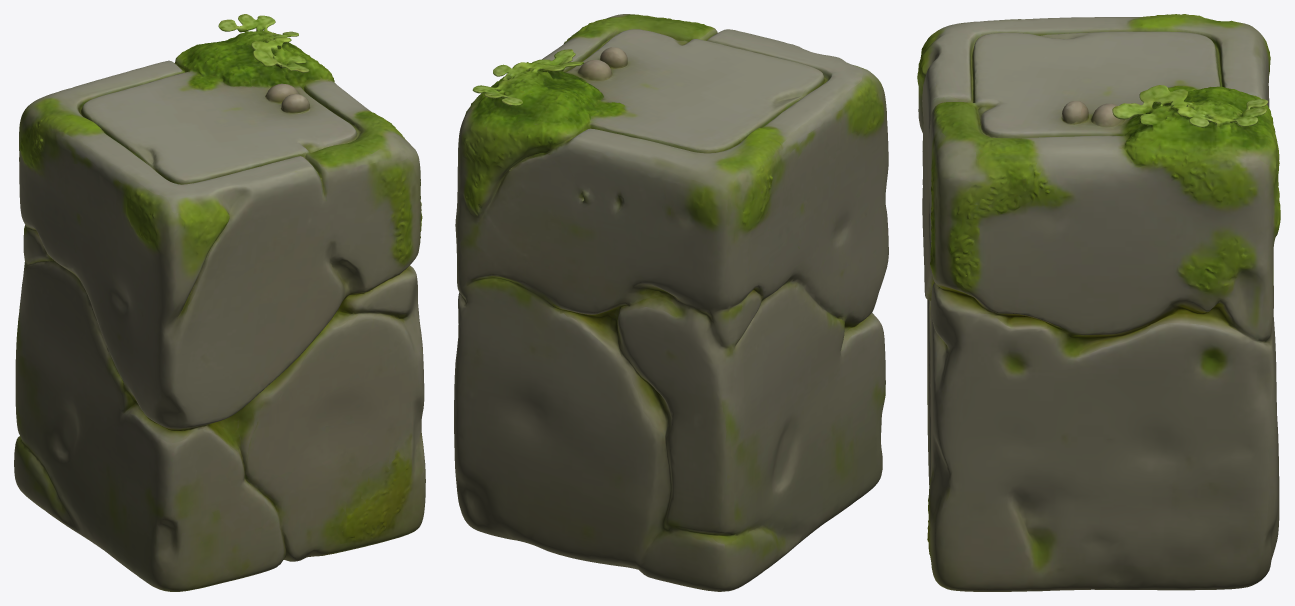
File: pillar5.glb
3 renders of one model, left to right at view 1: azimuth 30°, elevation 25°; view 2: azimuth 150°, elevation 25°; view 3: azimuth 270°, elevation 25°, orthographic. The views are drawn at different scales.
Parts seen in each view (by area): view 1: world; view 2: world; view 3: world.
Part boxes in pixels (x1=…): world: x1=14, y1=14, x2=425, y2=591; world: x1=454, y1=14, x2=888, y2=591; world: x1=917, y1=14, x2=1280, y2=591.
Bounding box in the file's own units: 0.6829 × 1 × 0.6971.
Materials: 1 (1 with a texture image).
